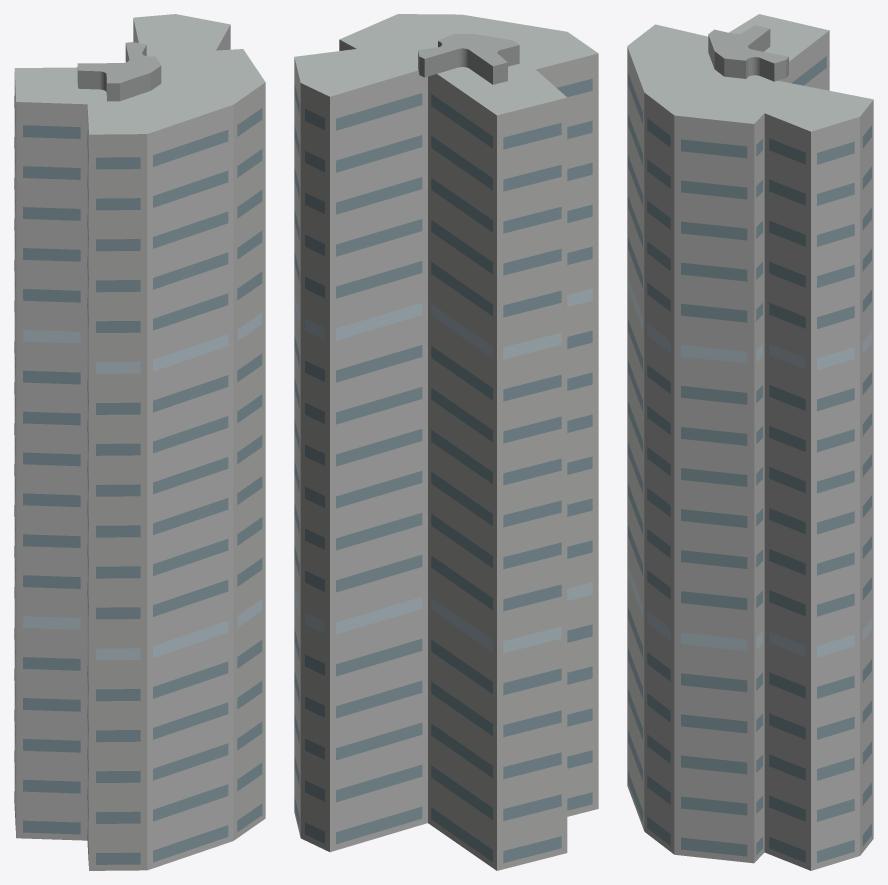
The model's file is fallback-jamsil-parkrio-216.glb.
3 views of the same model, side by side, from view 1: azimuth 30°, elevation 25°; view 2: azimuth 150°, elevation 25°; view 3: azimuth 270°, elevation 25° (orthographic). The views are drawn at different scales.
Parts seen in each view (by area): view 1: fallback-jamsil-parkrio-216; view 2: fallback-jamsil-parkrio-216; view 3: fallback-jamsil-parkrio-216.
Boxes of the visible parts, x1,y1,x2,y2 form: fallback-jamsil-parkrio-216: [14, 14, 265, 870]; fallback-jamsil-parkrio-216: [294, 14, 598, 870]; fallback-jamsil-parkrio-216: [627, 14, 873, 870].
Size of the model in its own units: 33.33 by 100 by 29.51.
